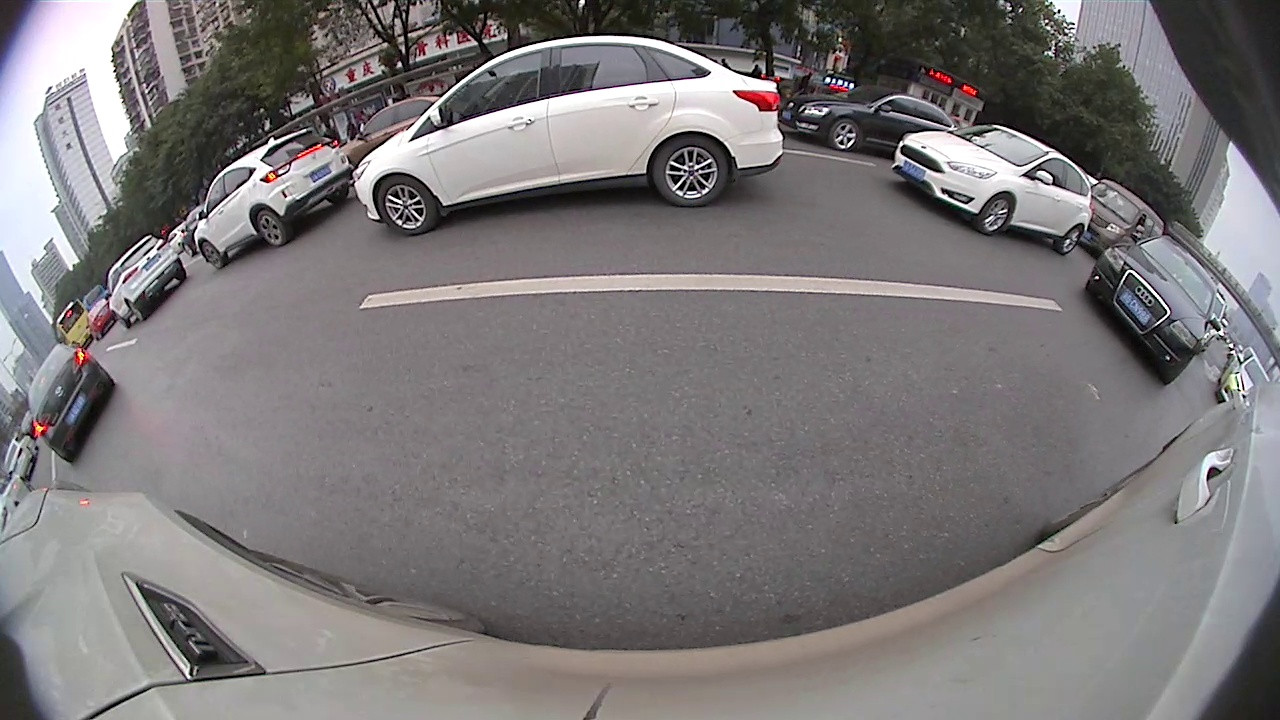car: (353, 34, 787, 235), (894, 125, 1097, 255), (193, 126, 354, 270), (1084, 234, 1219, 386), (25, 343, 117, 463), (780, 92, 958, 154), (102, 235, 187, 329), (337, 94, 442, 166), (1083, 179, 1165, 254)
front: (376, 172, 437, 234), (977, 191, 1016, 238), (828, 117, 863, 154), (199, 239, 229, 269)
rear: (652, 132, 731, 208), (255, 208, 291, 249), (1055, 222, 1083, 255), (126, 297, 150, 324)
